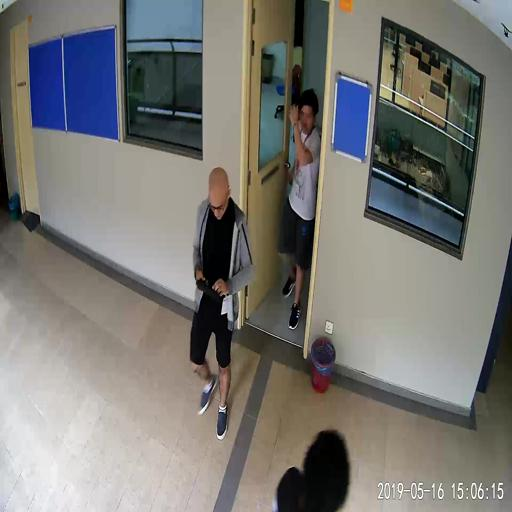pistol: (195, 276, 221, 300)
